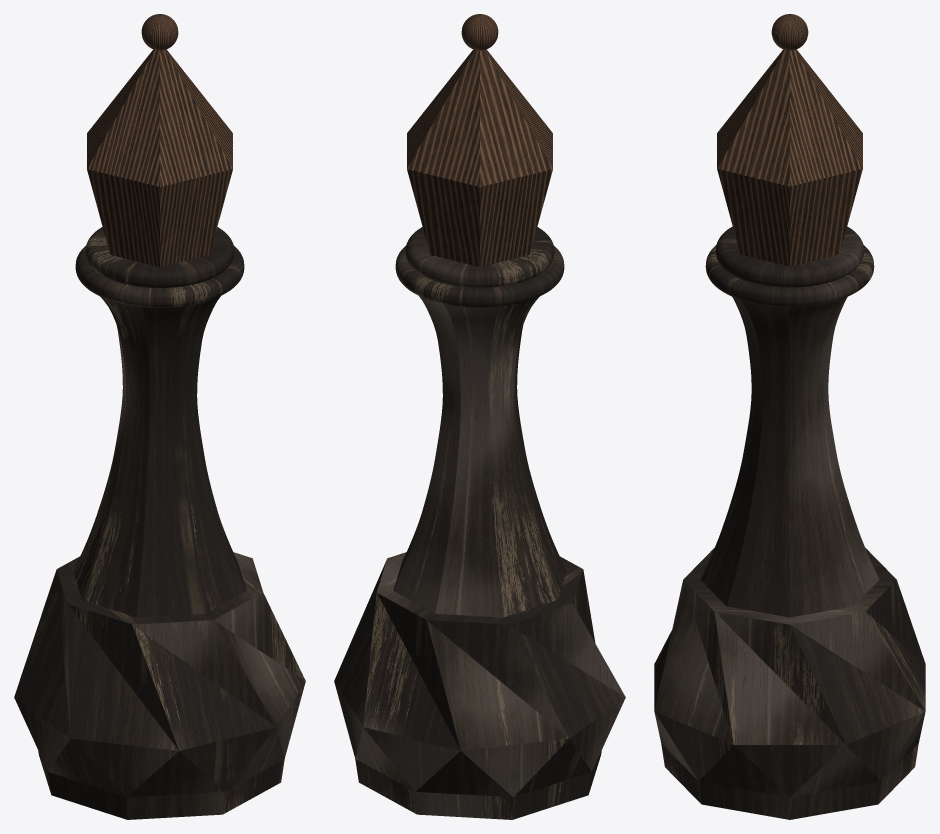
Rendered from queen-black.glb.
3 views of the same model, side by side, from view 1: azimuth 30°, elevation 25°; view 2: azimuth 150°, elevation 25°; view 3: azimuth 270°, elevation 25° (orthographic).
Parts seen in each view (by area): view 1: Lithoxyl_Queen_Onyx; view 2: Lithoxyl_Queen_Onyx; view 3: Lithoxyl_Queen_Onyx.
Part boxes in pixels (bbox=[...]): Lithoxyl_Queen_Onyx: bbox=[14, 14, 305, 819]; Lithoxyl_Queen_Onyx: bbox=[334, 14, 625, 819]; Lithoxyl_Queen_Onyx: bbox=[654, 14, 925, 819].
Size of the model in its own units: 0.5006 by 1.53 by 0.5006.
Materials: 2 (2 with a texture image).
